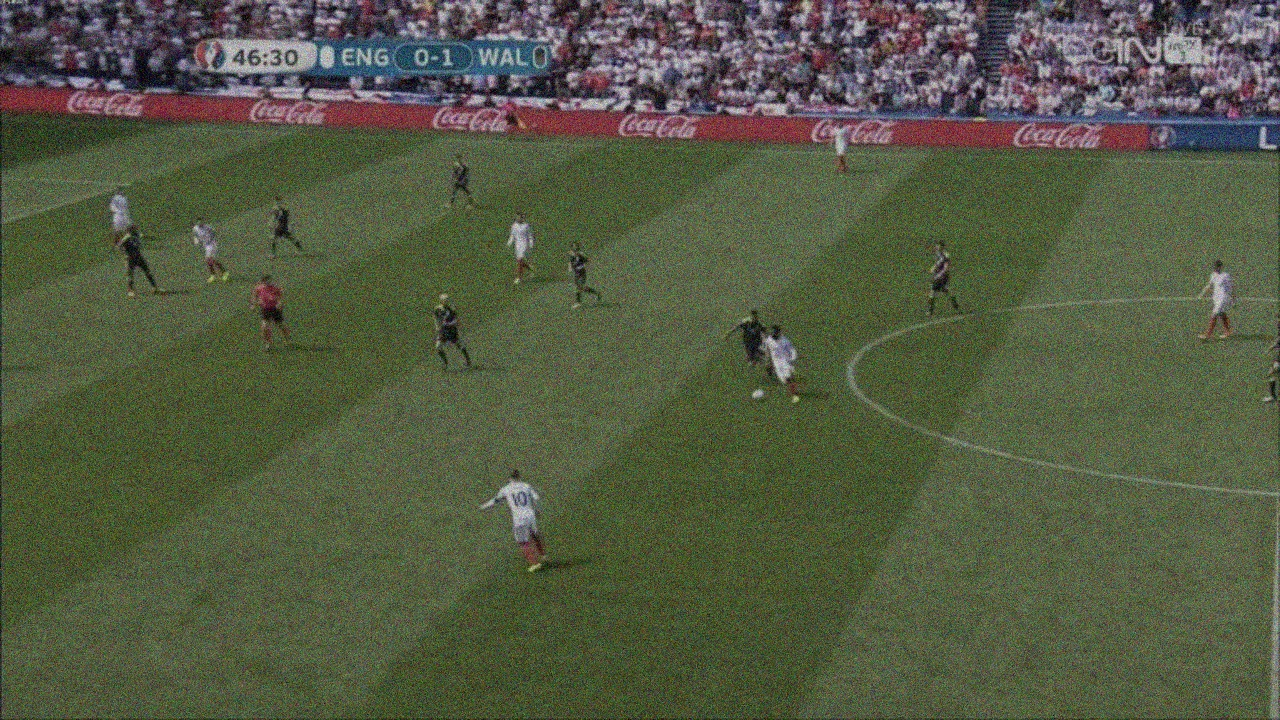ball: (752, 390, 765, 402)
player: (479, 470, 548, 571), (117, 226, 167, 298), (723, 309, 772, 377), (1197, 260, 1235, 341), (432, 294, 472, 370), (765, 325, 800, 404), (925, 241, 959, 319), (190, 216, 228, 283), (268, 197, 305, 260), (568, 241, 601, 310), (505, 212, 536, 284), (444, 154, 474, 210), (1263, 314, 1280, 404), (109, 188, 132, 246), (830, 121, 847, 174)
referee: (248, 276, 294, 352), (500, 93, 531, 143)
